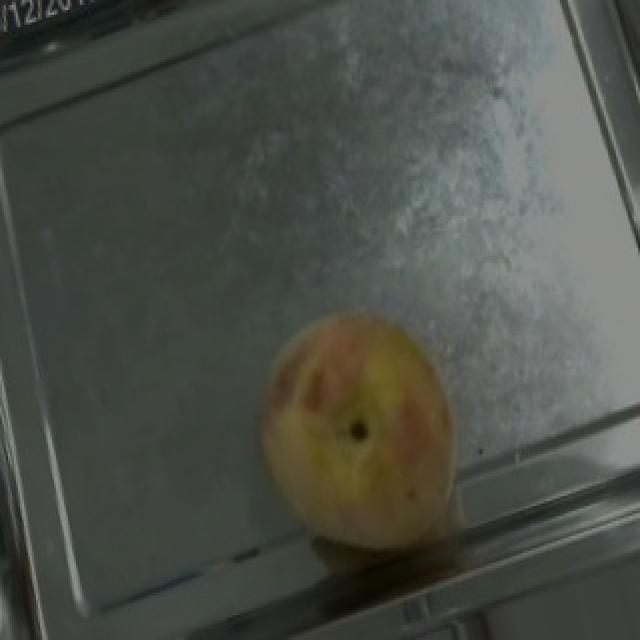Fruit: (214, 273, 508, 595)
